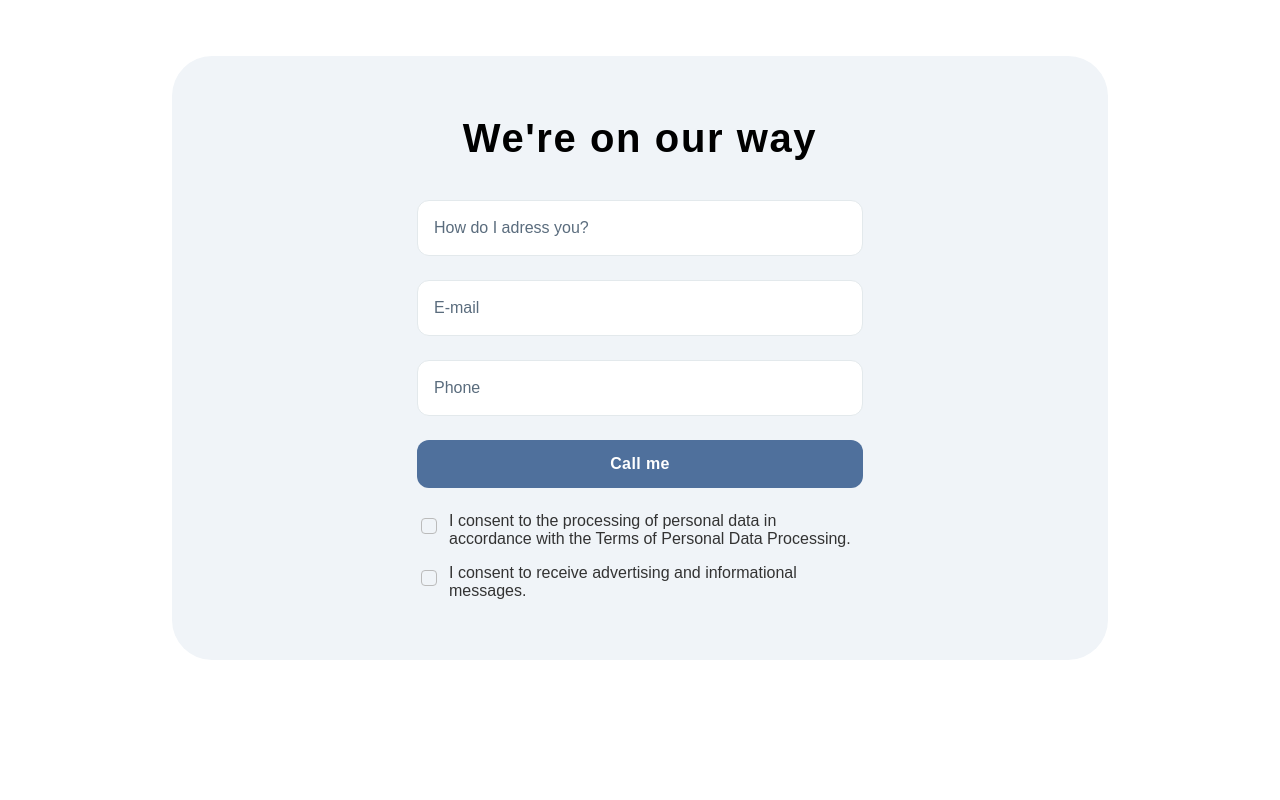
it: Test Call Back Form › Form sucsess case
Expected: the field with test id "call-email-input" is empty, [418,281,862,335]
Expected: the checkbox labelled "I consent to the processing of " is not checked, [421,518,437,534]
Type "Vladislav" into the field with test id "call-name-input".
click(640, 228); type("Vladislav")  # box [418,201,862,255]
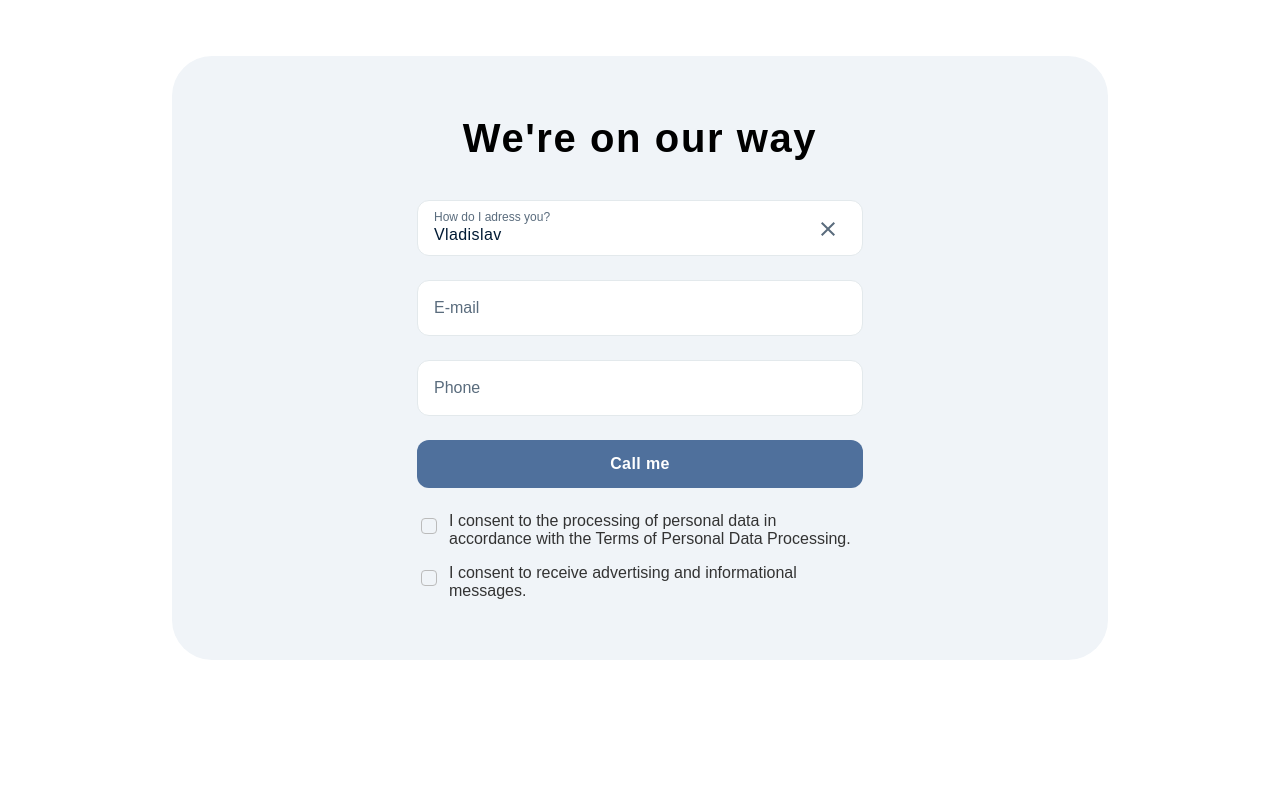
Type "vladislav@gmail.com" into the field with test id "call-email-input".
click(640, 308); type("vladislav@gmail.com")  # box [418,281,862,335]
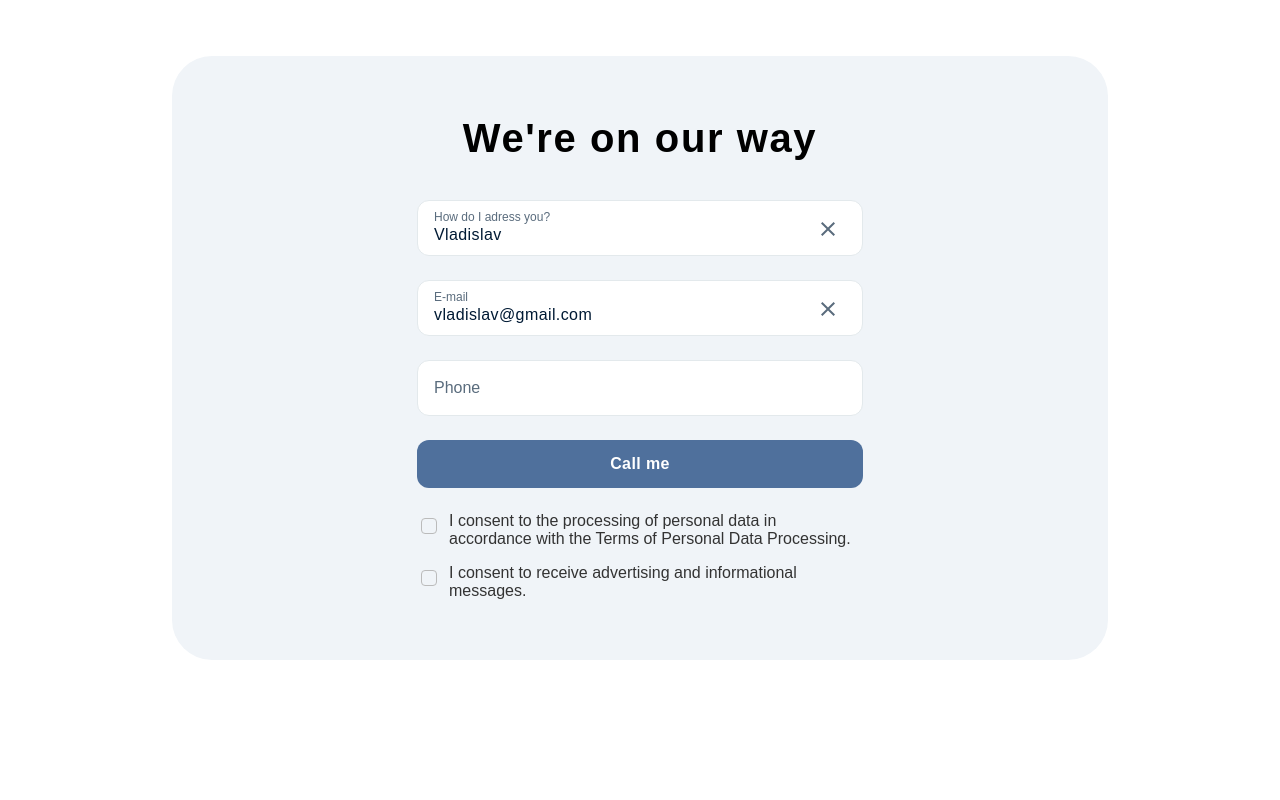
Click the checkbox labelled "I consent to the processing of ".
click(429, 526)  # box [421,518,437,534]
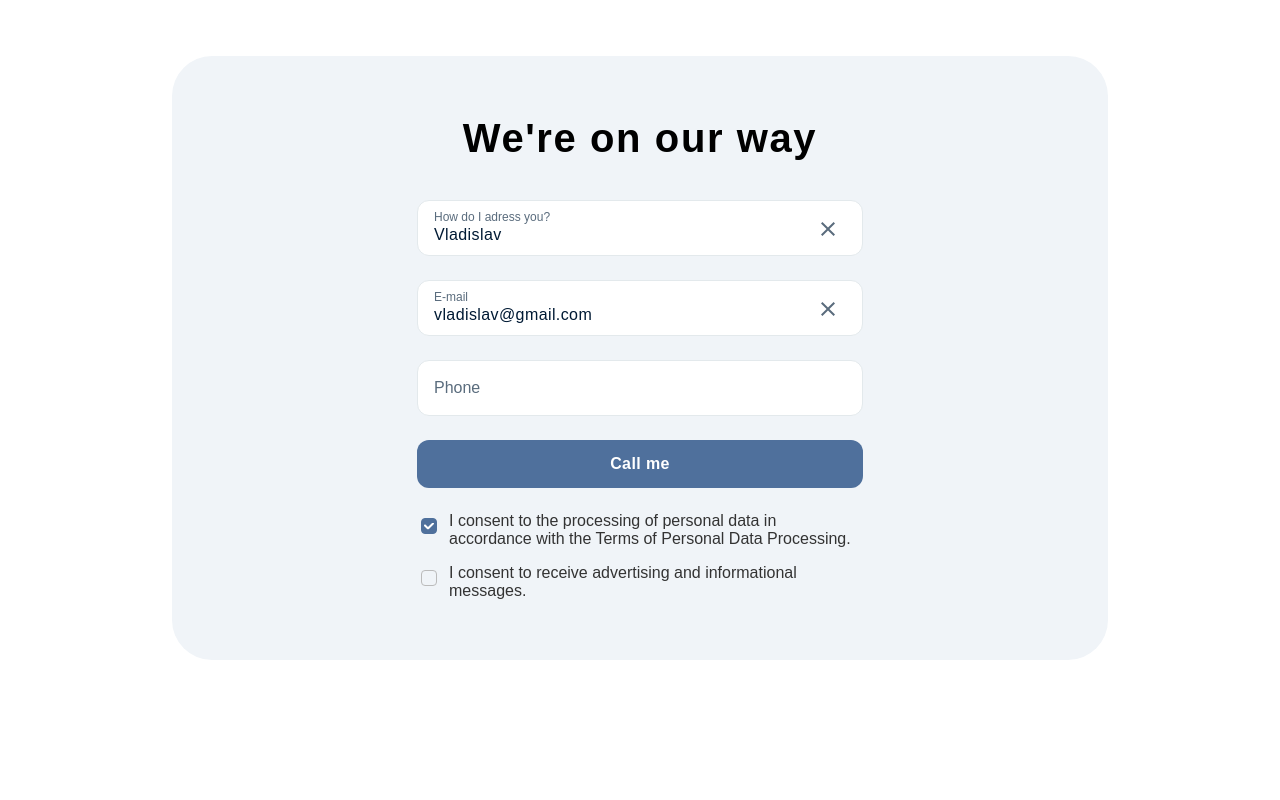
Click the button with test id "call-btn".
click(640, 464)  # box [417,440,863,488]
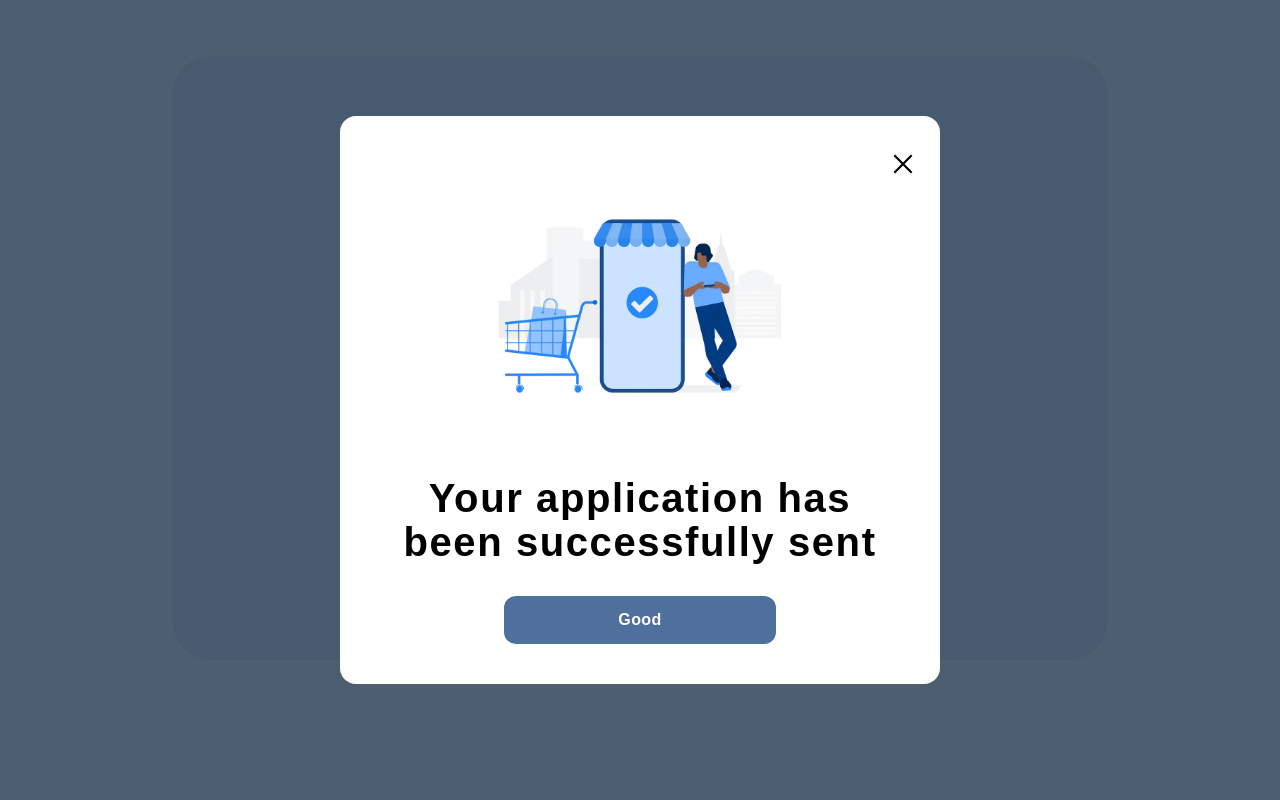
Expected: the element with test id "call-modal" is shown
